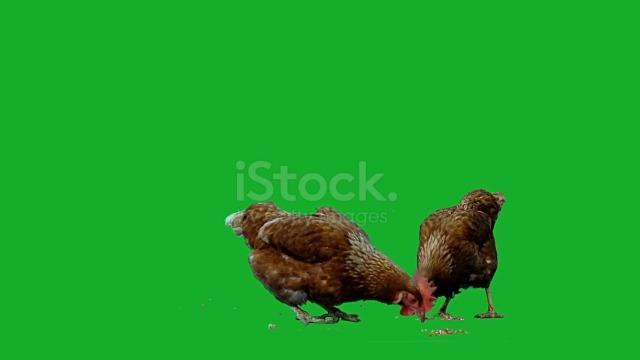Normal: (226, 195, 436, 327), (414, 182, 524, 322)
